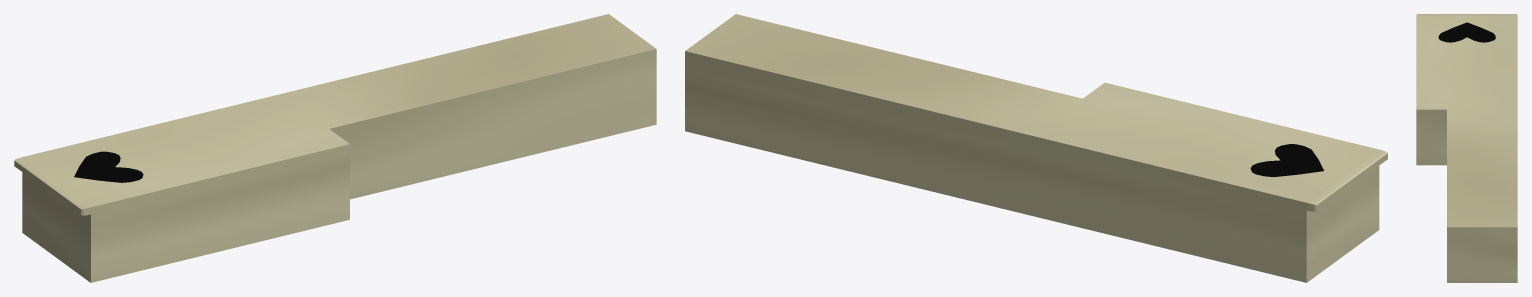
Rendered from F_key.obj.
3 renders of one model, left to right at view 1: azimuth 30°, elevation 25°; view 2: azimuth 150°, elevation 25°; view 3: azimuth 270°, elevation 25°, orthographic. The views are drawn at different scales.
Visible parts, largest first — view 1: F_key; view 2: F_key; view 3: F_key.
Boxes of the visible parts, <box> form: F_key: <box>14,14,656,282</box>; F_key: <box>685,14,1387,282</box>; F_key: <box>1416,14,1517,282</box>.
Size of what is drawn, in the model's own units: 17.27 by 2.12 by 3.45.
2 materials, 2 textured.
